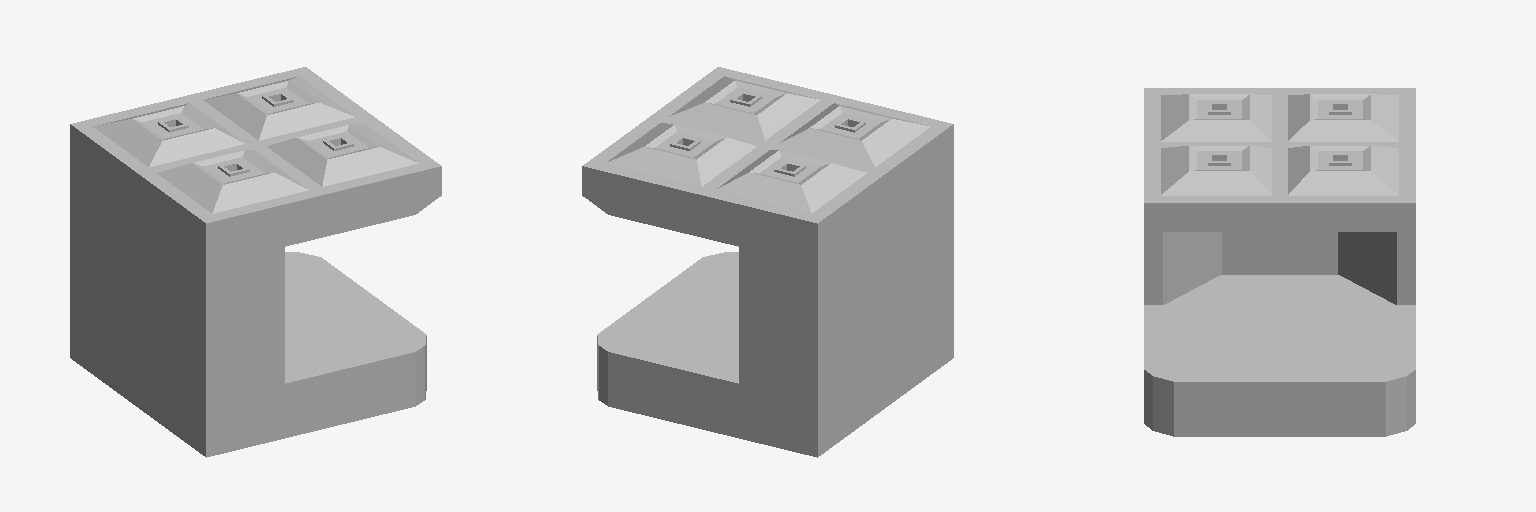
Rendered from blender.obj.
The picture shows the model from 3 angles: view 1: azimuth 30°, elevation 25°; view 2: azimuth 150°, elevation 25°; view 3: azimuth 270°, elevation 25°; orthographic projection.
Parts seen in each view (by area): view 1: Cube_Cube.001; view 2: Cube_Cube.001; view 3: Cube_Cube.001.
Part boxes in pixels (x1,y1,x2,y2): Cube_Cube.001: (70,67,441,457); Cube_Cube.001: (582,67,953,457); Cube_Cube.001: (1144,88,1415,436).
Size of the model in its own units: 2 by 2 by 2.